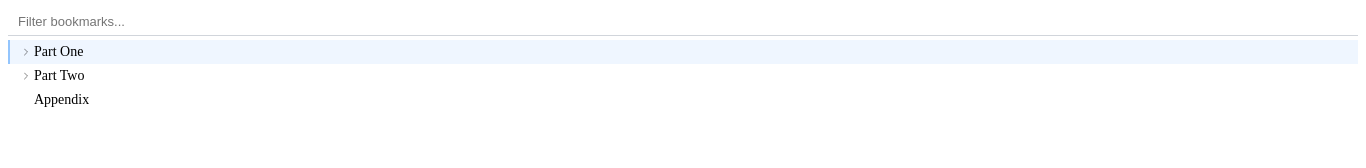
Scenario: BookmarkPanel › filter › auto-expands matching branches
Type "Section" into the search field labelled "Filter bookmarks" at (683,22), box [8,8,1358,36]
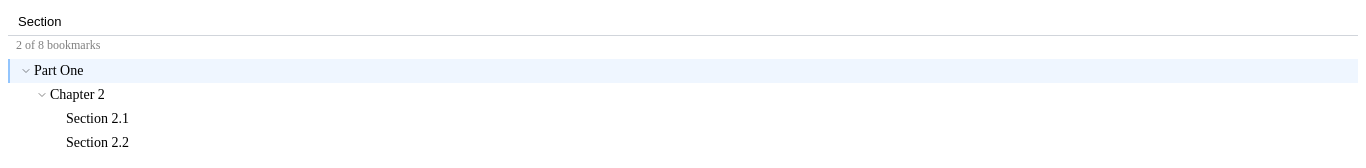
Result: the text "Section 2.1" is shown at [66,111,129,127]
Result: the text "Section 2.2" is shown at [66,135,129,151]
